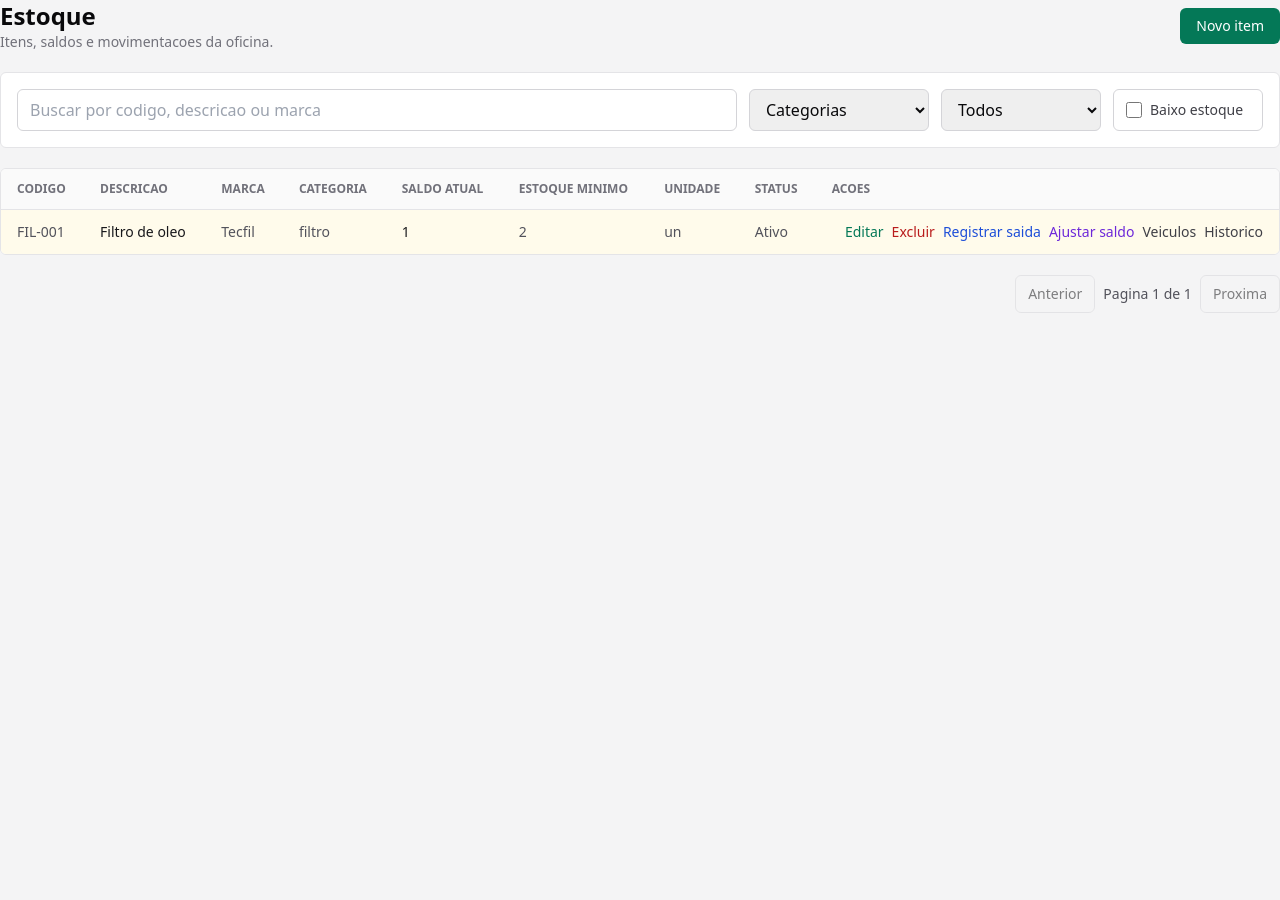
Scenario: EstoquePage › abre modal de historico de utilizacao do filtro
Click the button "Historico" at (1234,232), box [1204,222,1263,242]
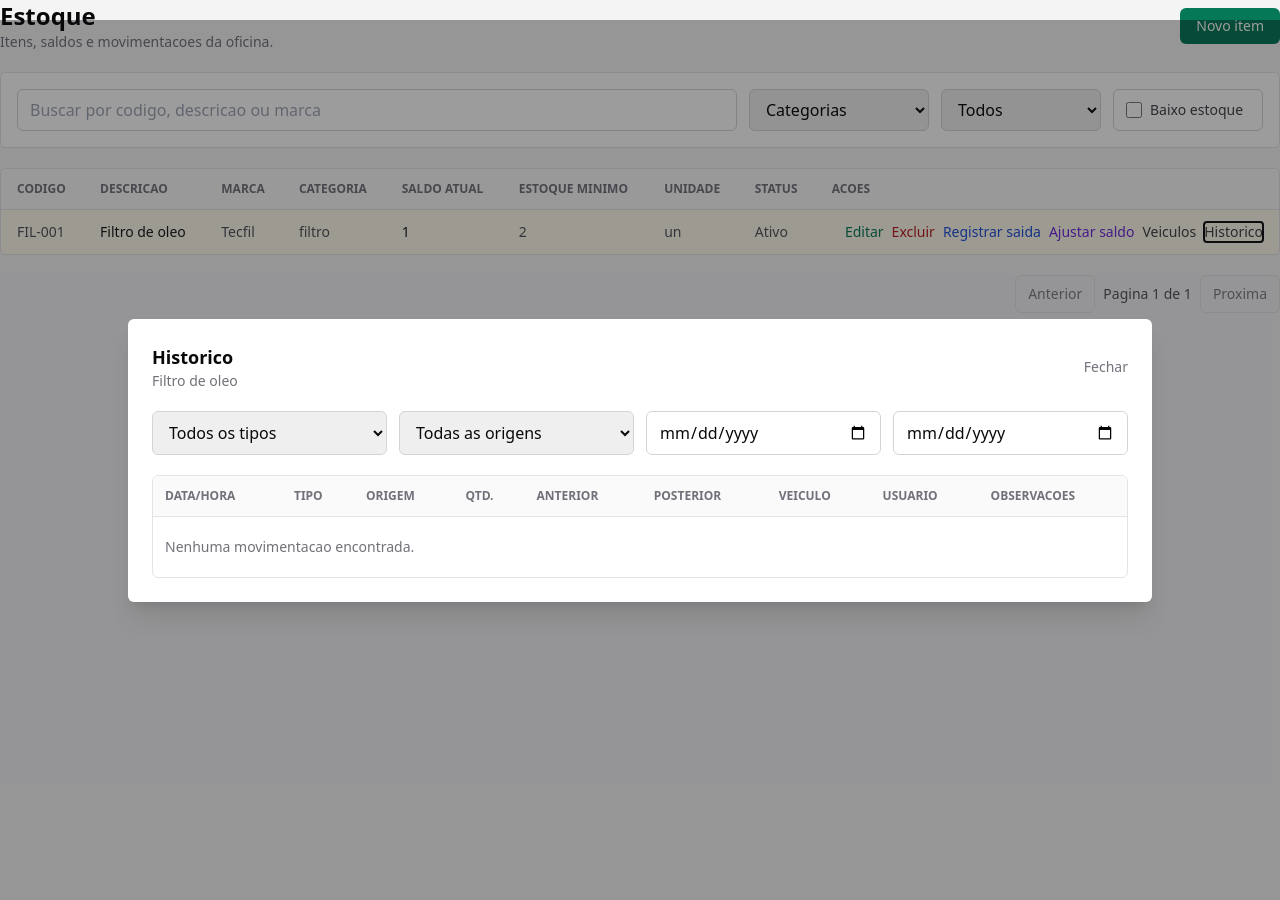
Expected: the heading "Historico" is shown, [152,342,238,370]
